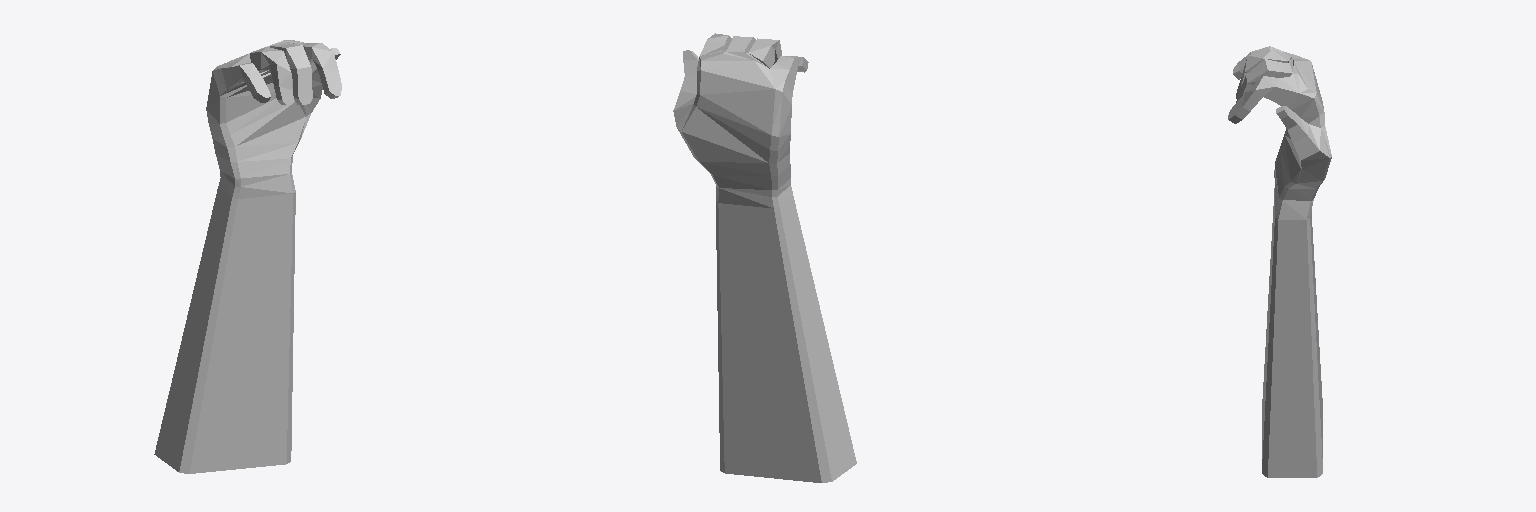
Rendered from hand_anim14.obj.
The picture shows the model from 3 angles: view 1: azimuth 30°, elevation 25°; view 2: azimuth 150°, elevation 25°; view 3: azimuth 270°, elevation 25°; orthographic projection.
Visible parts, largest first — view 1: Cube.001; view 2: Cube.001; view 3: Cube.001.
Part boxes in pixels (left/top/right/bottom): Cube.001: left=154, top=40, right=341, bottom=473; Cube.001: left=673, top=33, right=856, bottom=482; Cube.001: left=1228, top=46, right=1331, bottom=477.
Size of the model in its own units: 1.21 by 2.9 by 0.66.